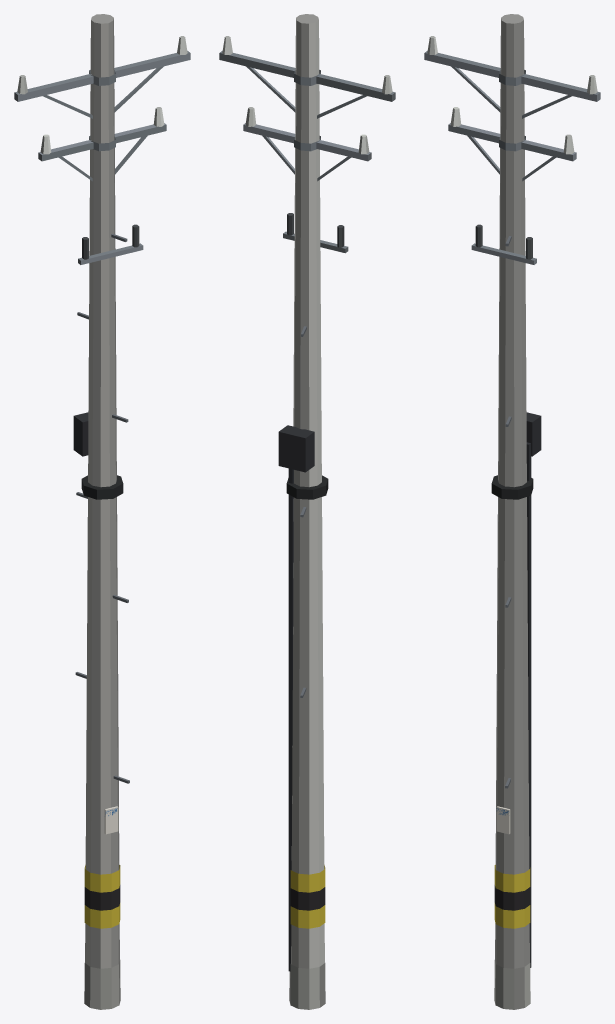
File: detail_electricPole.glb
3 renders of one model, left to right at view 1: azimuth 30°, elevation 25°; view 2: azimuth 150°, elevation 25°; view 3: azimuth 330°, elevation 25°, orthographic.
Visible parts, largest first — view 1: detail_electricPole_LOD0; view 2: detail_electricPole_LOD0; view 3: detail_electricPole_LOD0.
Boxes of the visible parts, <box> form: detail_electricPole_LOD0: <box>14,14,190,1009</box>; detail_electricPole_LOD0: <box>219,14,395,1009</box>; detail_electricPole_LOD0: <box>424,14,600,1009</box>.
Size of what is drawn, in the model's own units: 2.2 by 12 by 0.7246.
1 material, 1 textured.
